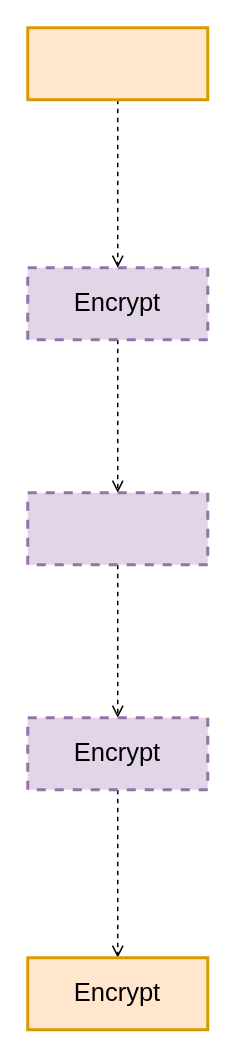
The diagram is 234 pixels wide and 1056 high, and some of its shapes have lost their labels. The shapes that lost their labels are listed below. From the top down, each one's box as (x1, y1, x2, y2) in pixels, then its label:
(26, 26, 208, 100): Message
(26, 490, 208, 566): Decrypt
